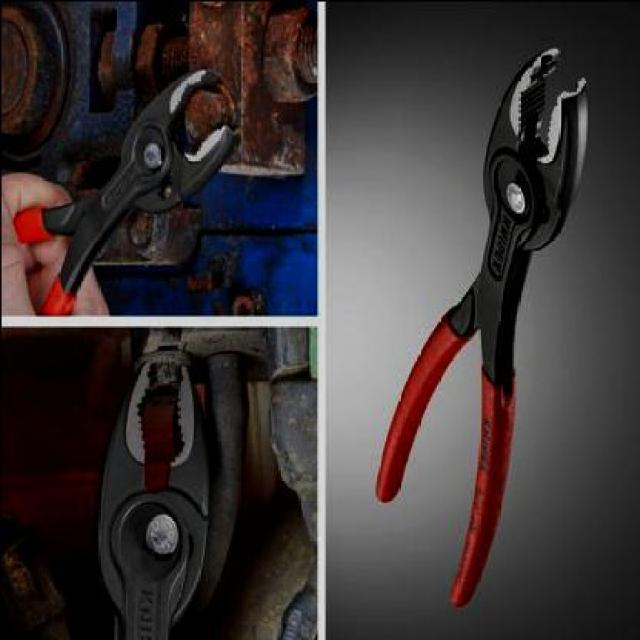pliers: (370, 38, 586, 612)
